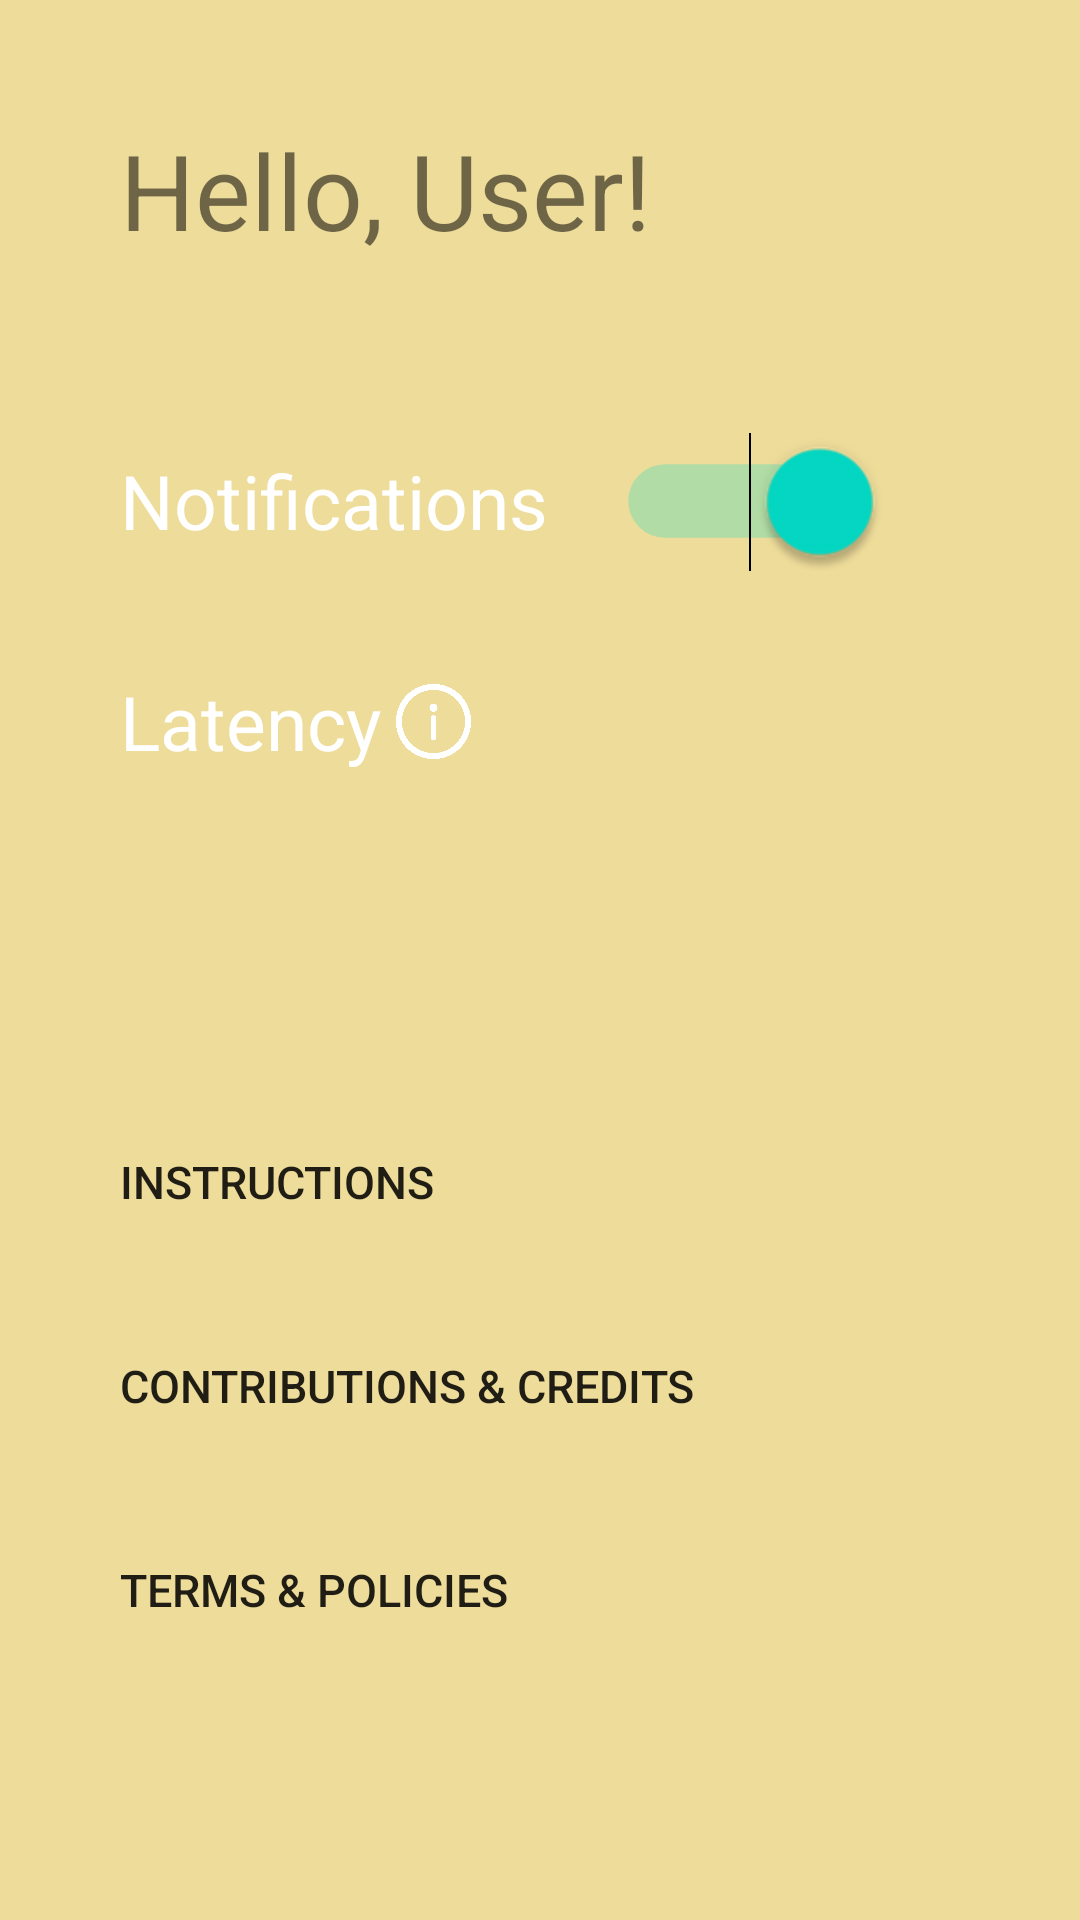

Icon click points for this 1080x1920 phone screenshot, format point (x, y):
information: point (433, 721)
